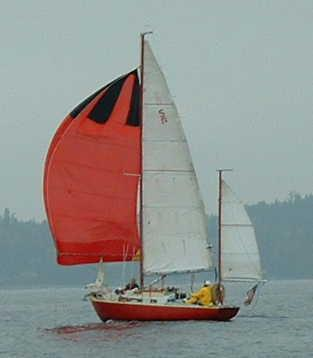Ship: (43, 34, 266, 323)
